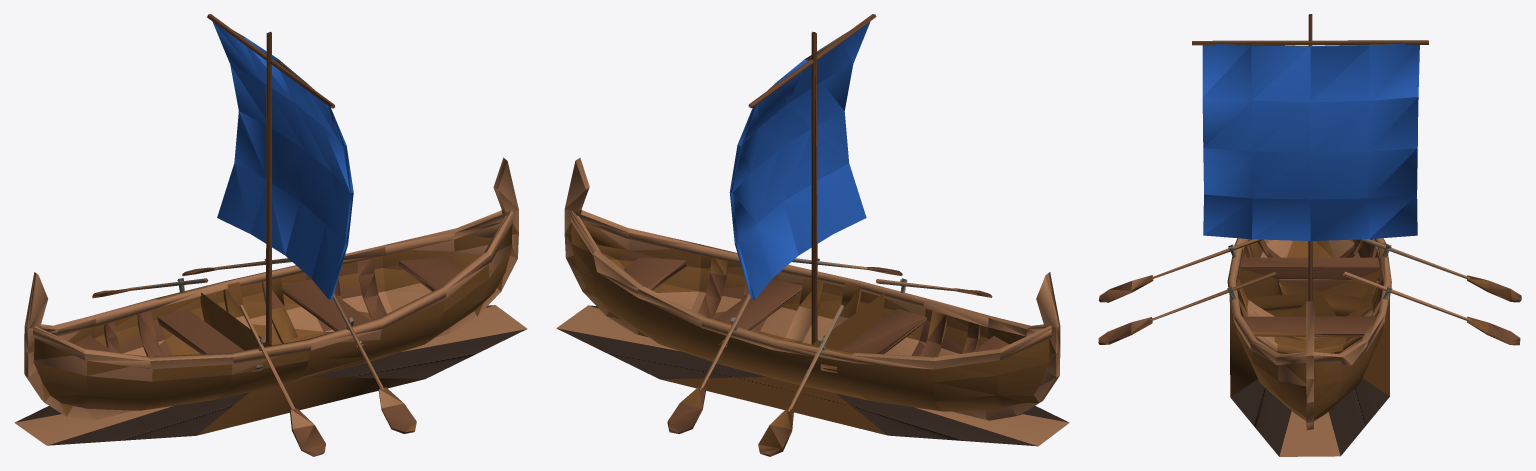
File: unit.boat.glb
3 views of the same model, side by side, from view 1: azimuth 30°, elevation 25°; view 2: azimuth 150°, elevation 25°; view 3: azimuth 270°, elevation 25° (orthographic). The views are drawn at different scales.
Visible parts, largest first — view 1: asset; view 2: asset; view 3: asset.
Boxes of the visible parts, left/top/right/bottom form: asset: left=14, top=14, right=527, bottom=456; asset: left=556, top=14, right=1069, bottom=456; asset: left=1098, top=14, right=1521, bottom=456.
Bounding box in the file's own units: 2.7 × 1.82 × 2.1.
